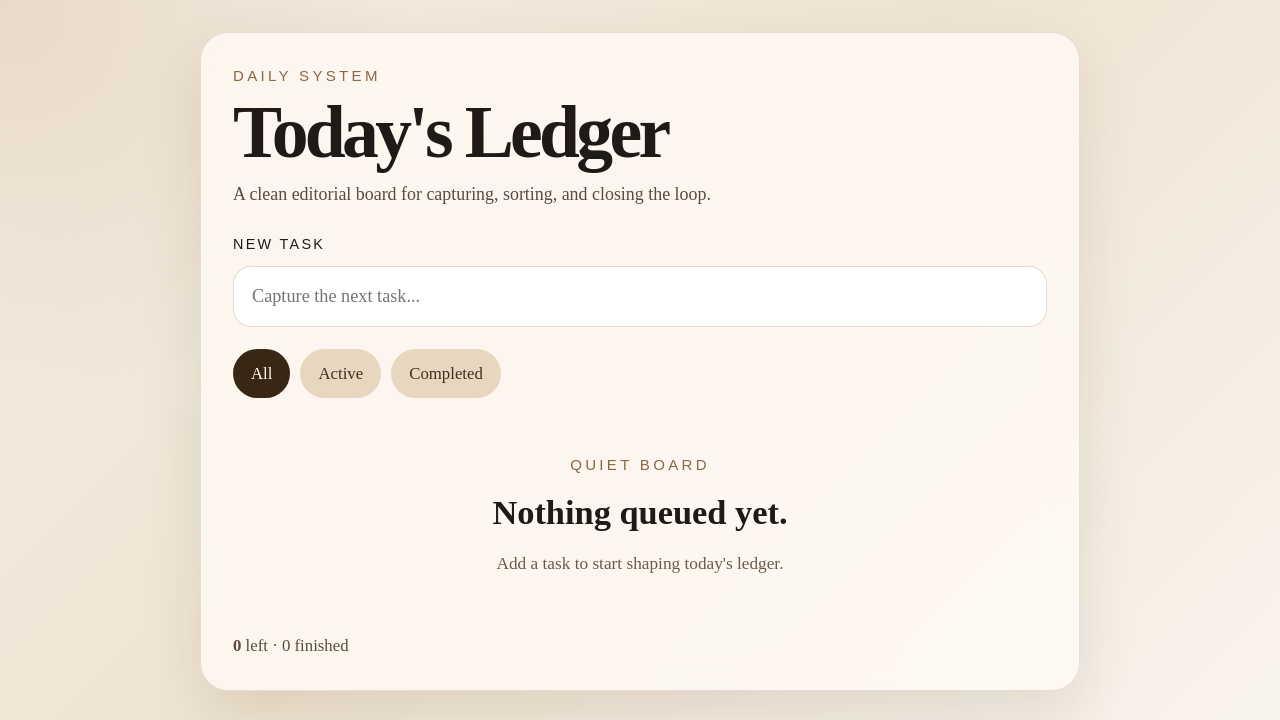
Test case: TodoView › supports creating, filtering, completing, editing, and deleting todos
In the field labelled "New task": (640, 297) [233,266,1047,327], type "Write release note"
Press Enter
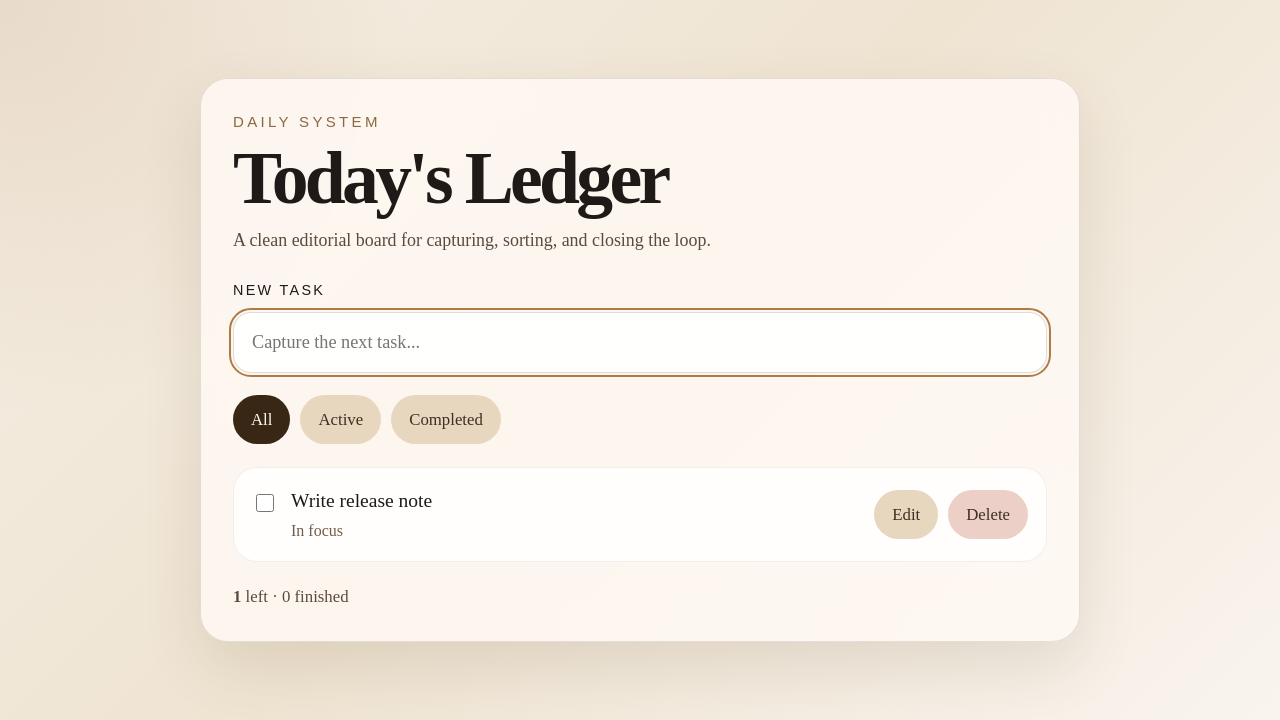
Expected: the text "Write release note" is shown, [291,490,432,510]
Click the checkbox named "Mark Write release note as done": click(265, 502) [256,494,274,512]
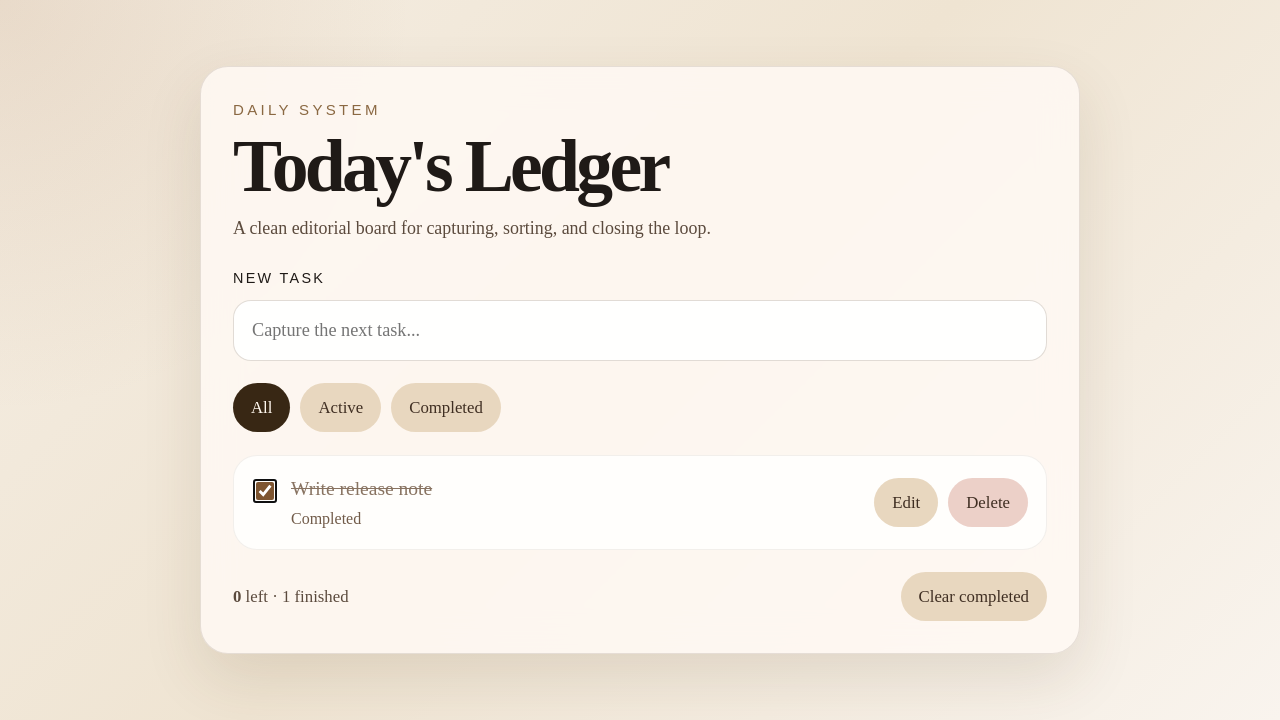
Click the button "Completed": click(446, 408) [391,383,501,432]
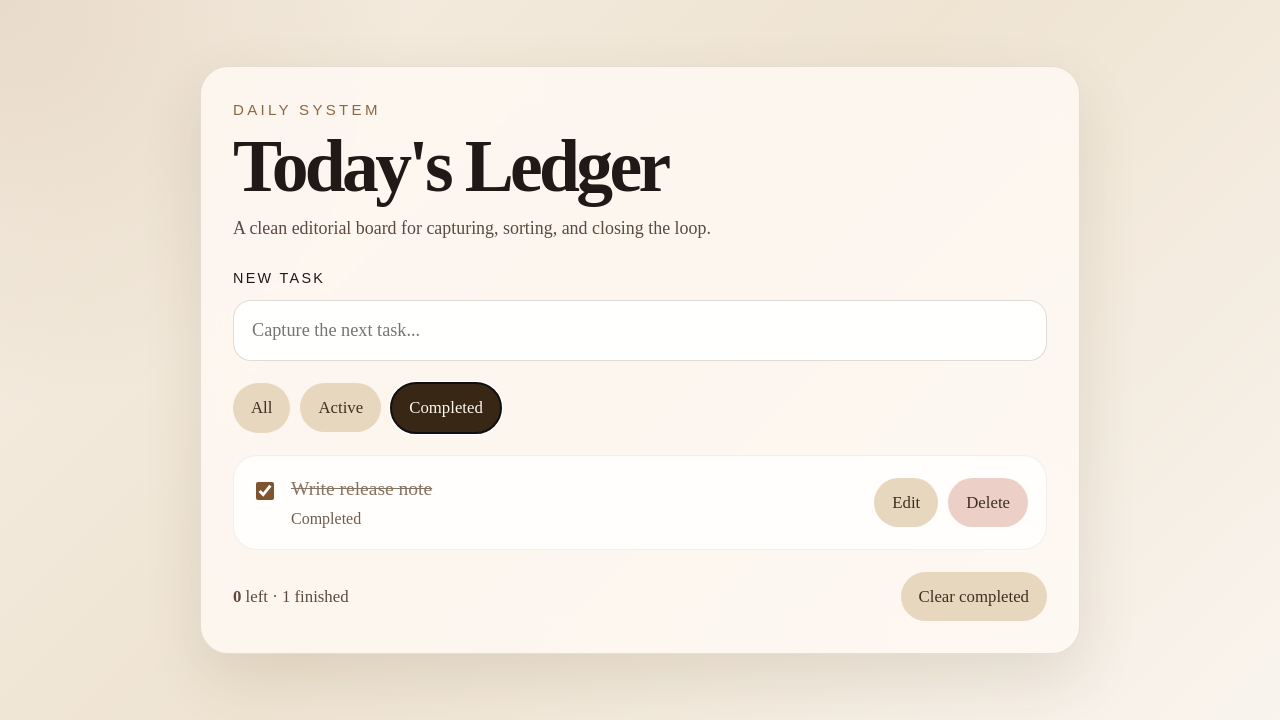
Expected: the text "Write release note" is shown, [291,478,432,498]
Click the button with aria-label "Edit Write release note": click(906, 502) [874,478,938,527]
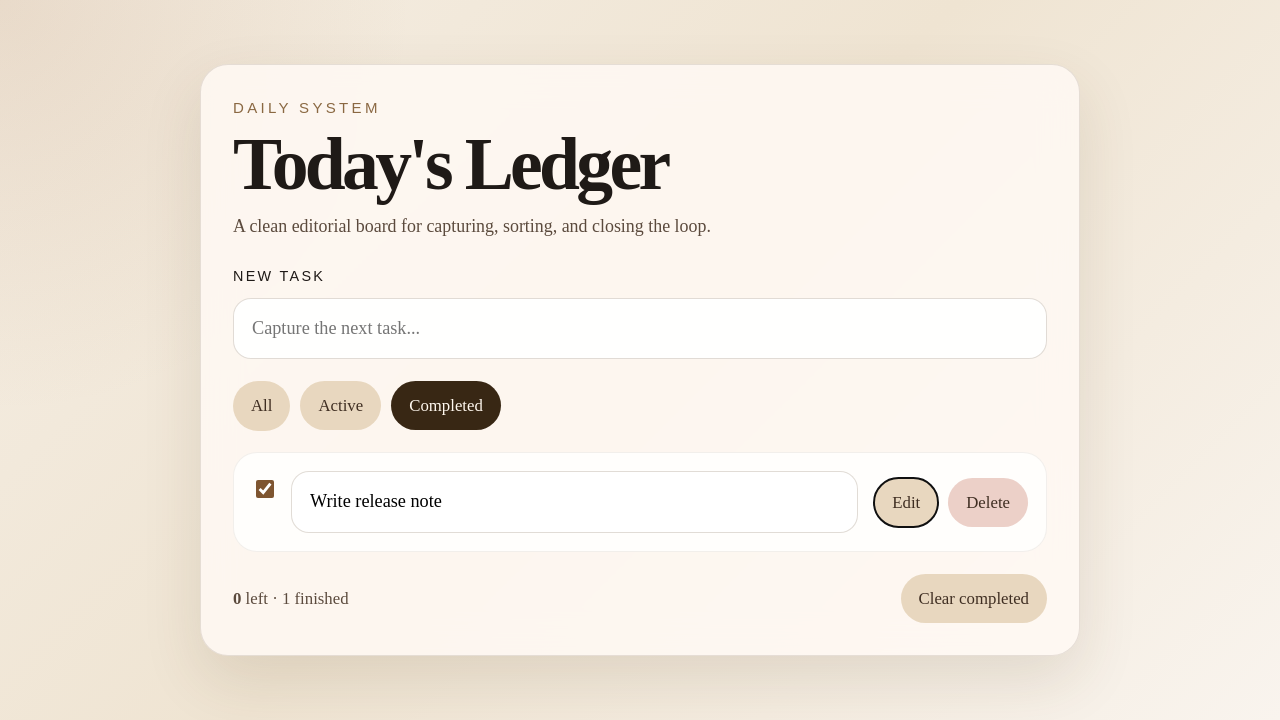
Replace the text in the field named "Edit task" with "Write final release note": (575, 502) [291,472,858,533]
Press Enter
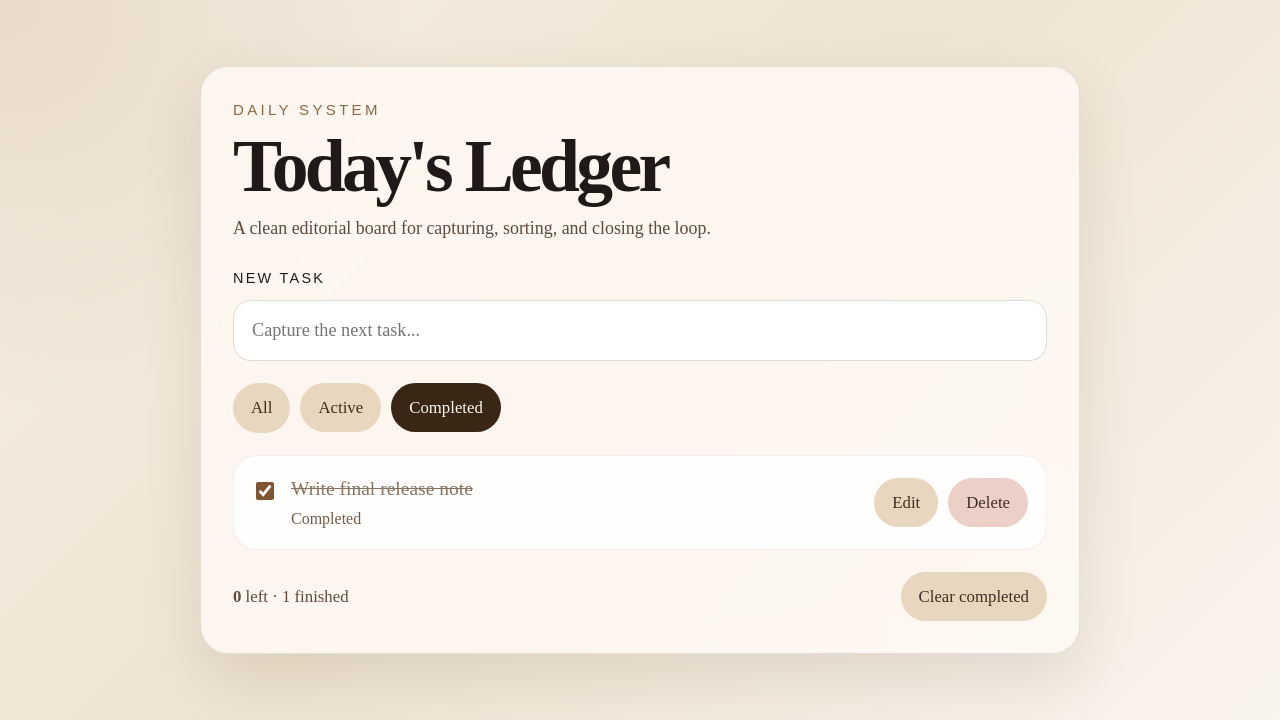
Expected: the text "Write final release note" is shown, [291,478,473,498]
Click the button with aria-label "Delete Write final release note": click(988, 502) [948,478,1028,527]
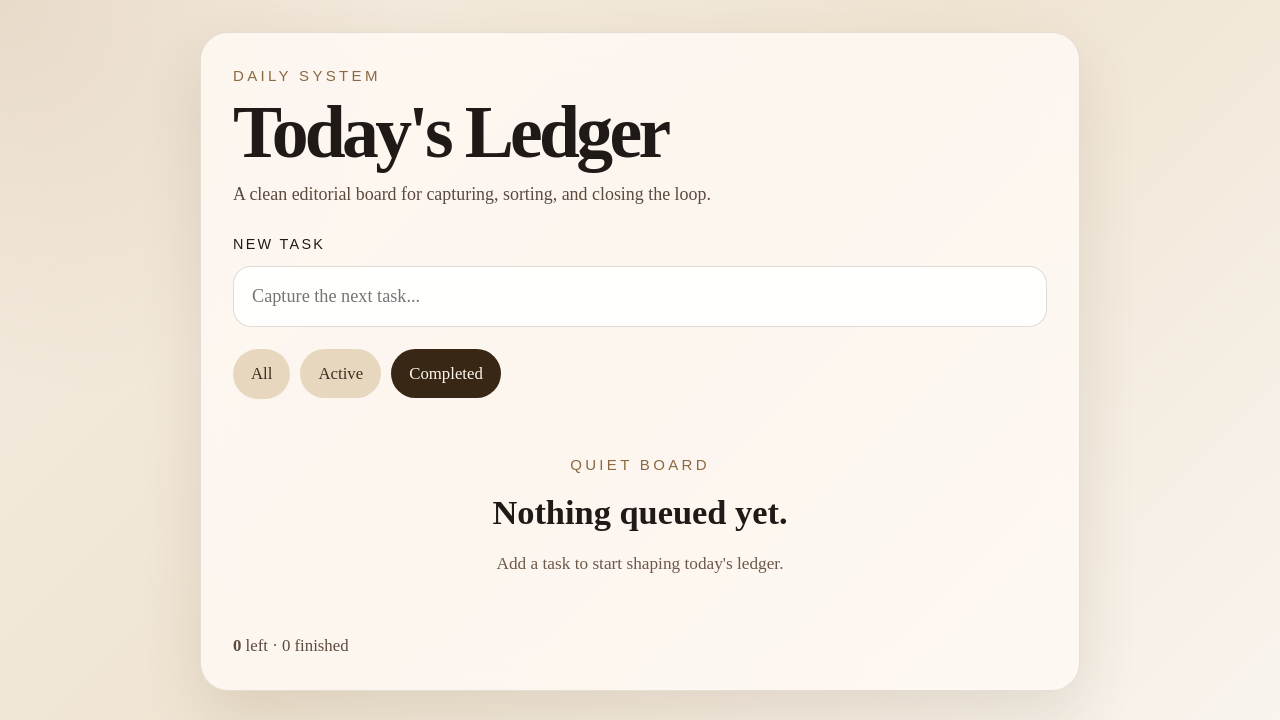
Expected: the text "Write final release note" is gone
